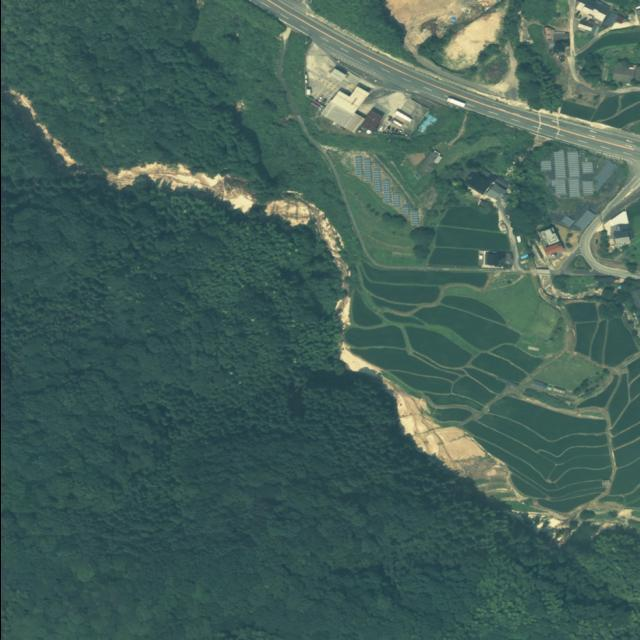landslide: (382, 379, 520, 503), (263, 191, 349, 281), (104, 163, 255, 213), (7, 88, 73, 166), (339, 343, 381, 377), (528, 512, 571, 542), (335, 295, 349, 330)
